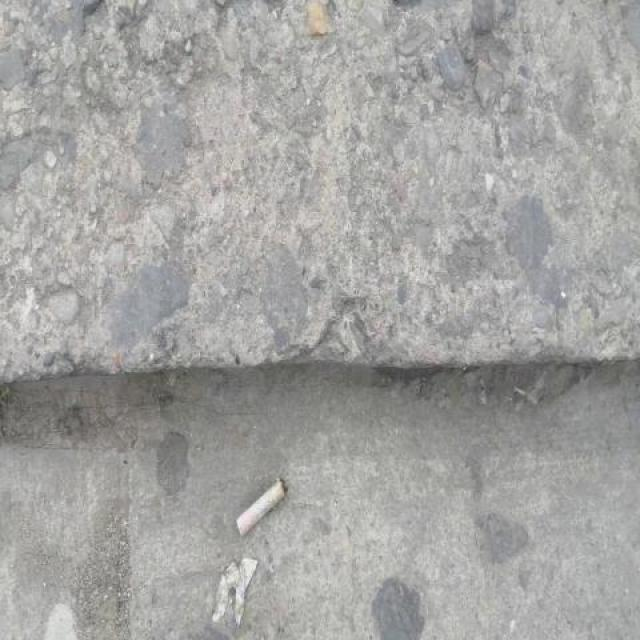non-organic waste: (232, 473, 292, 540)
